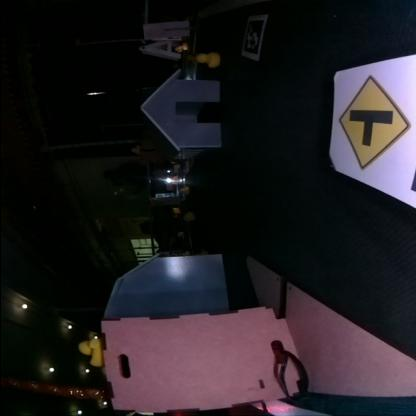Duckie: (76, 338, 102, 367), (194, 52, 218, 66), (179, 186, 187, 194), (183, 212, 191, 220)
Intersection sign: (334, 76, 406, 168)
QR code: (239, 18, 266, 60)
